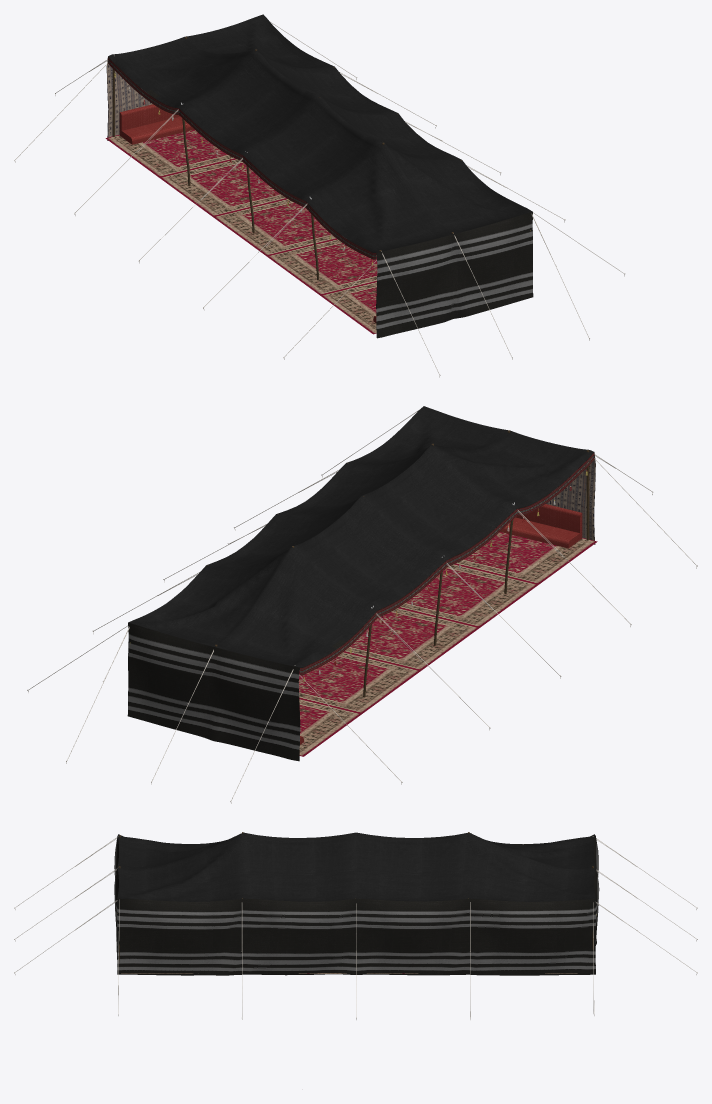
Rendered from arabic_tent.glb.
The picture shows the model from 3 angles, top to bottom: view 1: azimuth 30°, elevation 25°; view 2: azimuth 150°, elevation 25°; view 3: azimuth 270°, elevation 25°; orthographic projection. The views are drawn at different scales.
Parts seen in each view (by area): view 1: Object004_Honeyview_dfghf_0, Object004_12 - Default_0, Object004_Honeyview_sadas_0, Shape002, Object004_gjyde_0, Object004_21 - Default_0, Object004_jghjgh_0, Object004_fghfghfg_0, Object004_Honeyview_Untitled_material_BaseColor_0; view 2: Object004_Honeyview_dfghf_0, Object004_12 - Default_0, Object004_Honeyview_sadas_0, Shape002, Object004_gjyde_0, Object004_21 - Default_0, Object004_jghjgh_0, Object004_fghfghfg_0, Object004_Honeyview_Untitled_material_BaseColor_0; view 3: Object004_Honeyview_sadas_0, Object004_Honeyview_dfghf_0, Object004_gjyde_0.
Part boxes in pixels (bbox=[...]): Object004_Honeyview_dfghf_0: bbox=[108, 14, 532, 252]; Object004_12 - Default_0: bbox=[105, 129, 377, 334]; Object004_Honeyview_sadas_0: bbox=[106, 37, 533, 338]; Shape002: bbox=[108, 57, 530, 265]; Object004_gjyde_0: bbox=[14, 21, 625, 377]; Object004_21 - Default_0: bbox=[107, 59, 152, 140]; Object004_jghjgh_0: bbox=[119, 116, 376, 322]; Object004_fghfghfg_0: bbox=[119, 104, 180, 130]; Object004_Honeyview_Untitled_material_BaseColor_0: bbox=[112, 36, 461, 280]; Object004_Honeyview_dfghf_0: bbox=[128, 406, 594, 667]; Object004_12 - Default_0: bbox=[298, 532, 597, 756]; Object004_Honeyview_sadas_0: bbox=[127, 452, 595, 761]; Shape002: bbox=[130, 453, 594, 681]; Object004_gjyde_0: bbox=[27, 409, 697, 803]; Object004_21 - Default_0: bbox=[546, 455, 595, 544]; Object004_jghjgh_0: bbox=[300, 517, 582, 744]; Object004_fghfghfg_0: bbox=[516, 504, 582, 532]; Object004_Honeyview_Untitled_material_BaseColor_0: bbox=[207, 430, 589, 697]; Object004_Honeyview_sadas_0: bbox=[114, 836, 599, 975]; Object004_Honeyview_dfghf_0: bbox=[117, 832, 595, 901]; Object004_gjyde_0: bbox=[14, 836, 697, 1019].
Bounding box in the file's own units: 0.1835 × 0.0415 × 0.2316.
15 materials, 14 textured.
